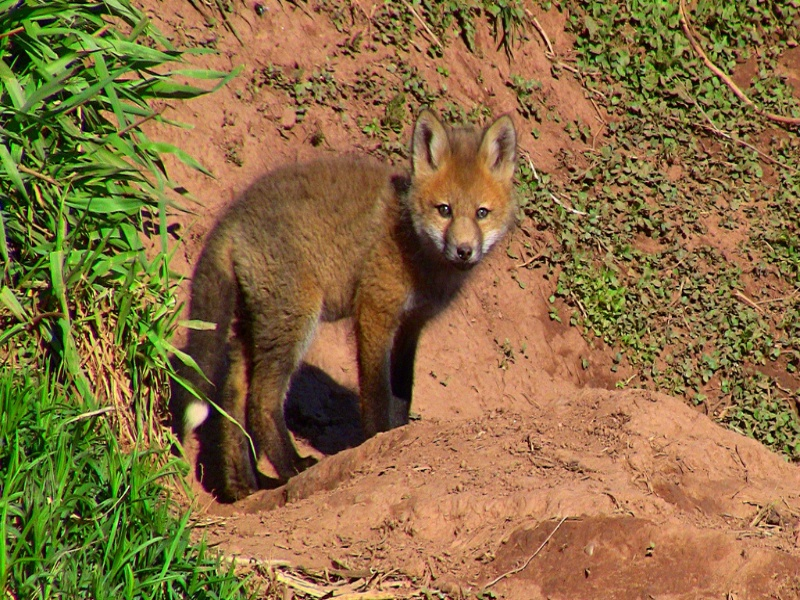fox: (171, 105, 525, 514)
